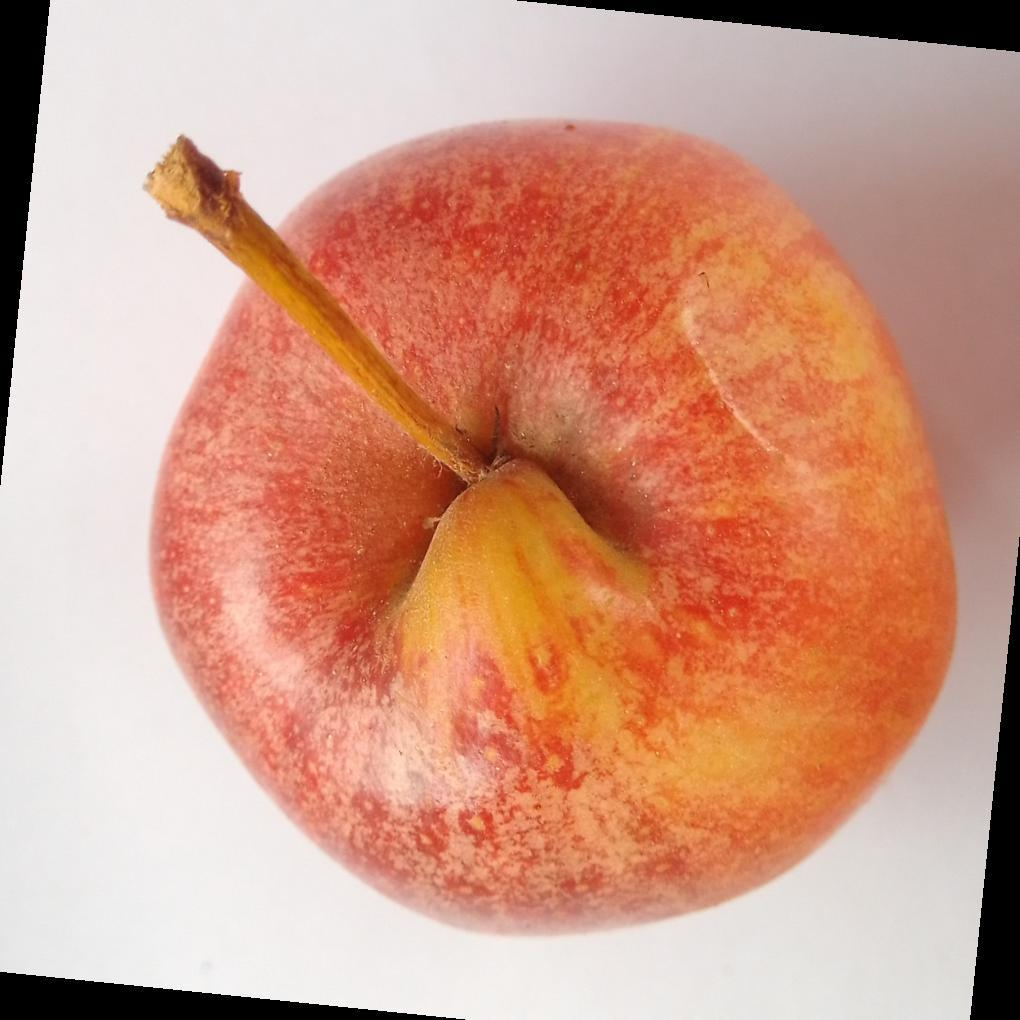FreshGuava: (146, 119, 961, 941)
